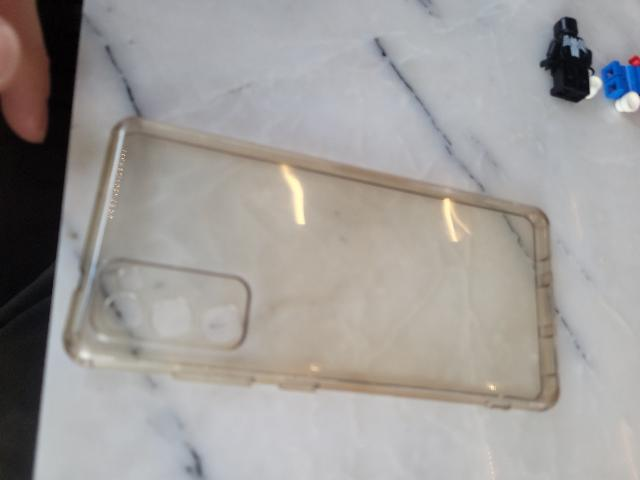Plastik: (60, 115, 567, 425), (538, 13, 607, 112), (604, 51, 640, 117)
